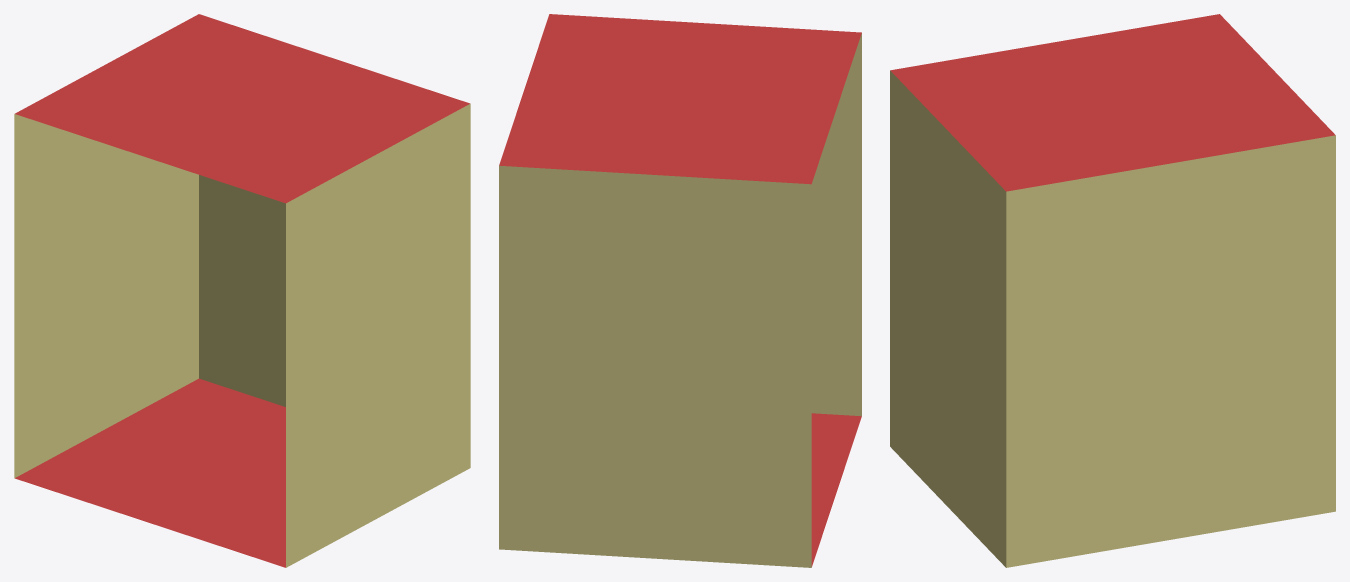
3 renders of one model, left to right at view 1: azimuth 30°, elevation 25°; view 2: azimuth 150°, elevation 25°; view 3: azimuth 270°, elevation 25°, orthographic. The views are drawn at different scales.
Size of the model in its own units: 6.39 by 6.77 by 6.31.
